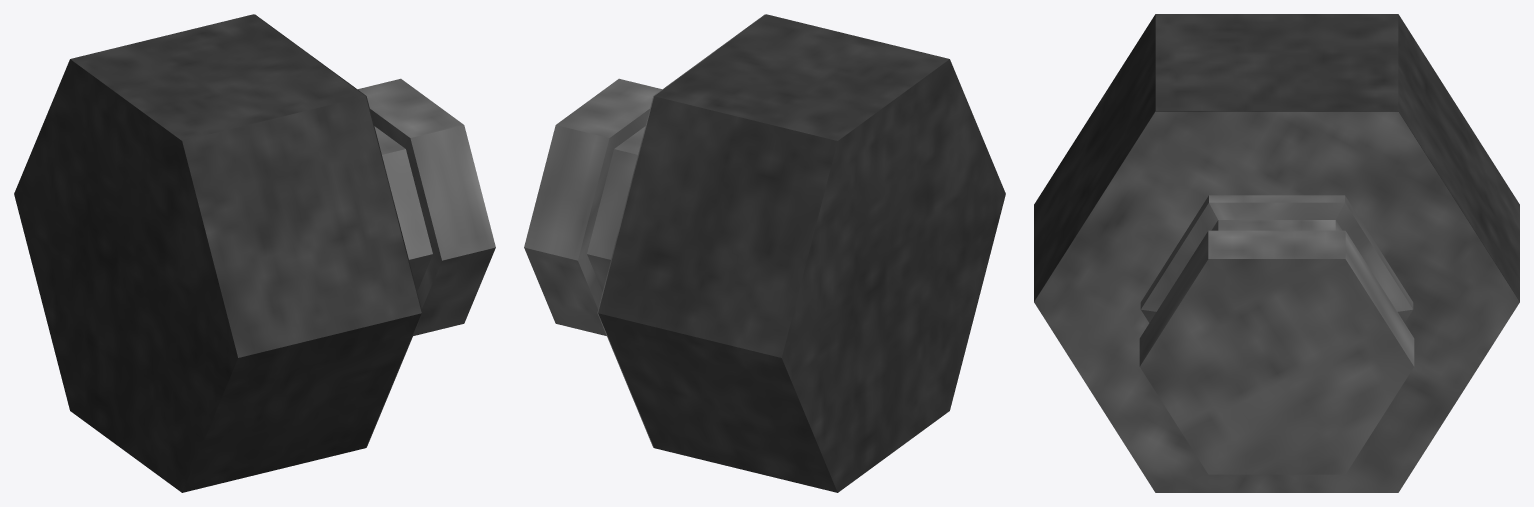
Rendered from revolverLoader.fbx.
3 views of the same model, side by side, from view 1: azimuth 30°, elevation 25°; view 2: azimuth 150°, elevation 25°; view 3: azimuth 270°, elevation 25° (orthographic). The views are drawn at different scales.
Visible parts, largest first — view 1: Plane.005, Plane.001; view 2: Plane.005, Plane.001; view 3: Plane.001, Plane.005.
Boxes of the visible parts, <box> form: Plane.005: <box>14,14,421,492</box>; Plane.001: <box>254,14,495,447</box>; Plane.005: <box>598,14,1005,492</box>; Plane.001: <box>524,14,765,447</box>; Plane.001: <box>1034,111,1519,492</box>; Plane.005: <box>1034,14,1519,301</box>.
Size of the model in its own units: 167 by 183 by 212.
Materials: 2 (2 with a texture image).
